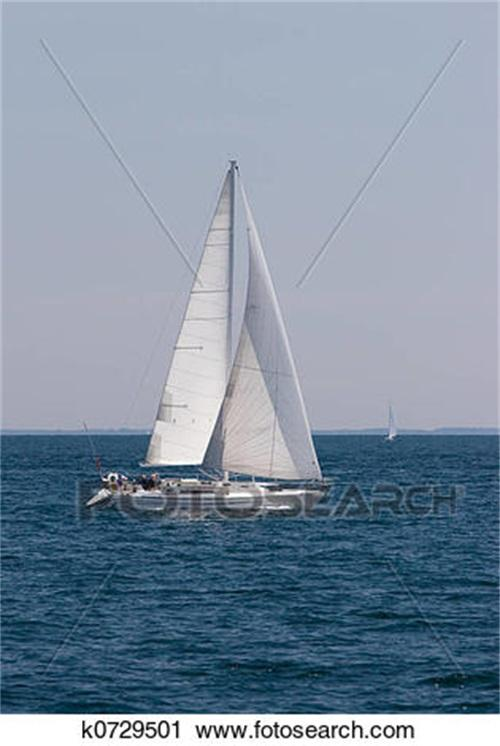Ship: (97, 159, 333, 519)
